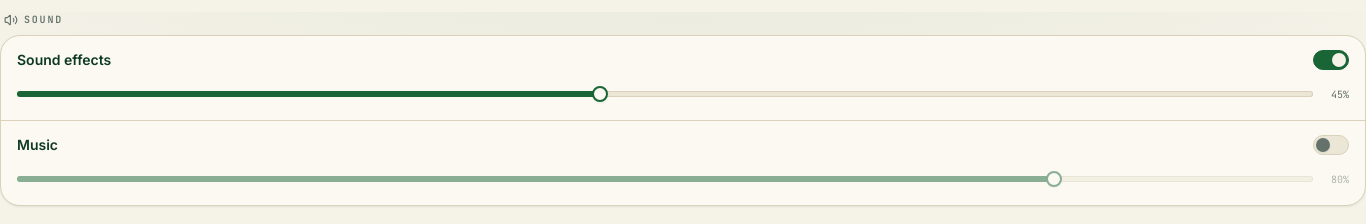
it: SoundSection volume sliders › re-enables the slider on the kept value when its switch comes back on
Click the switch with test id "profile-music-toggle". click: [1331, 145]
box: 1313,135 -> 1349,155
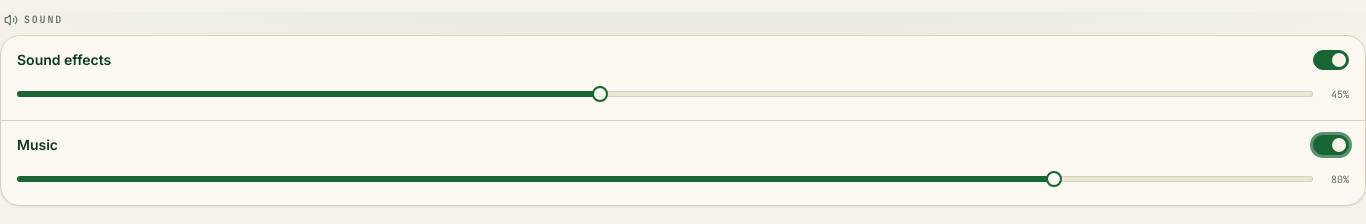
expect the slider named "Music volume" is enabled: met, box 1048,173 -> 1060,185
